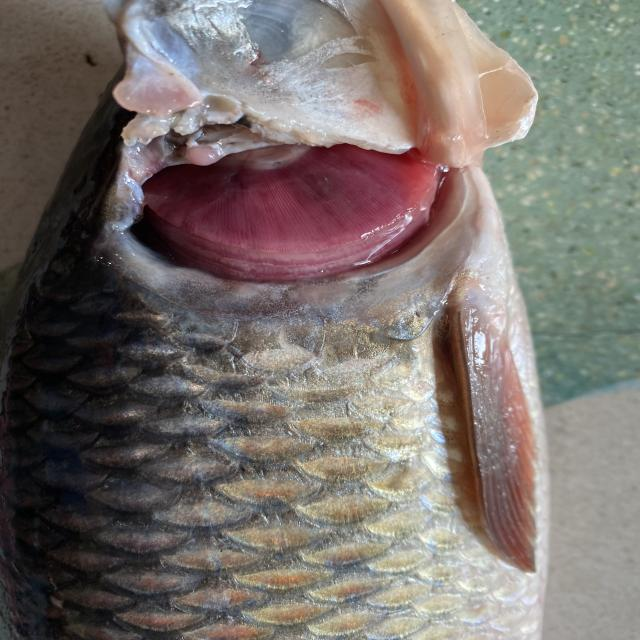Fresh: (121, 124, 482, 296)
